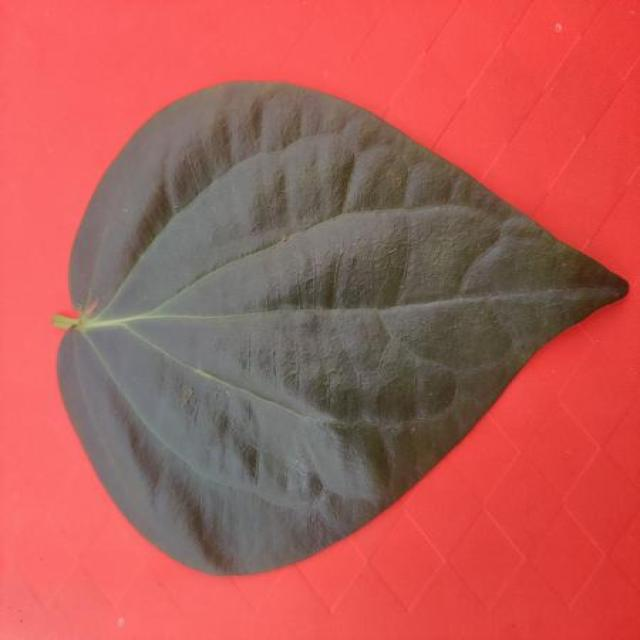betel: (53, 82, 627, 574)
